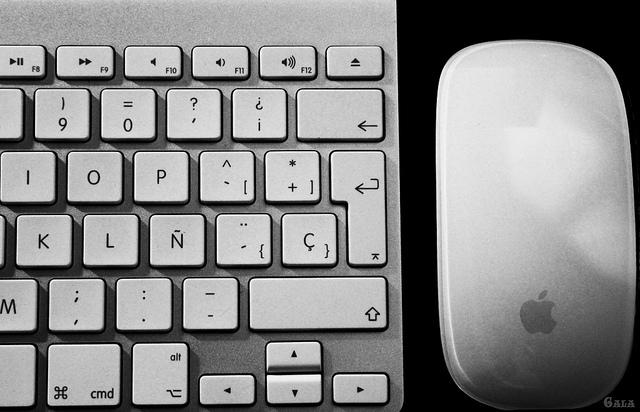apple: (520, 290, 558, 334)
